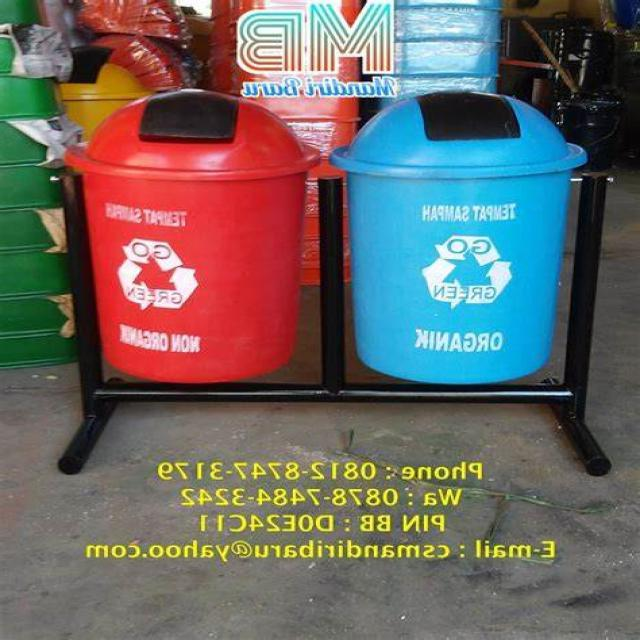garbage container: (322, 73, 624, 404), (32, 72, 322, 406)
